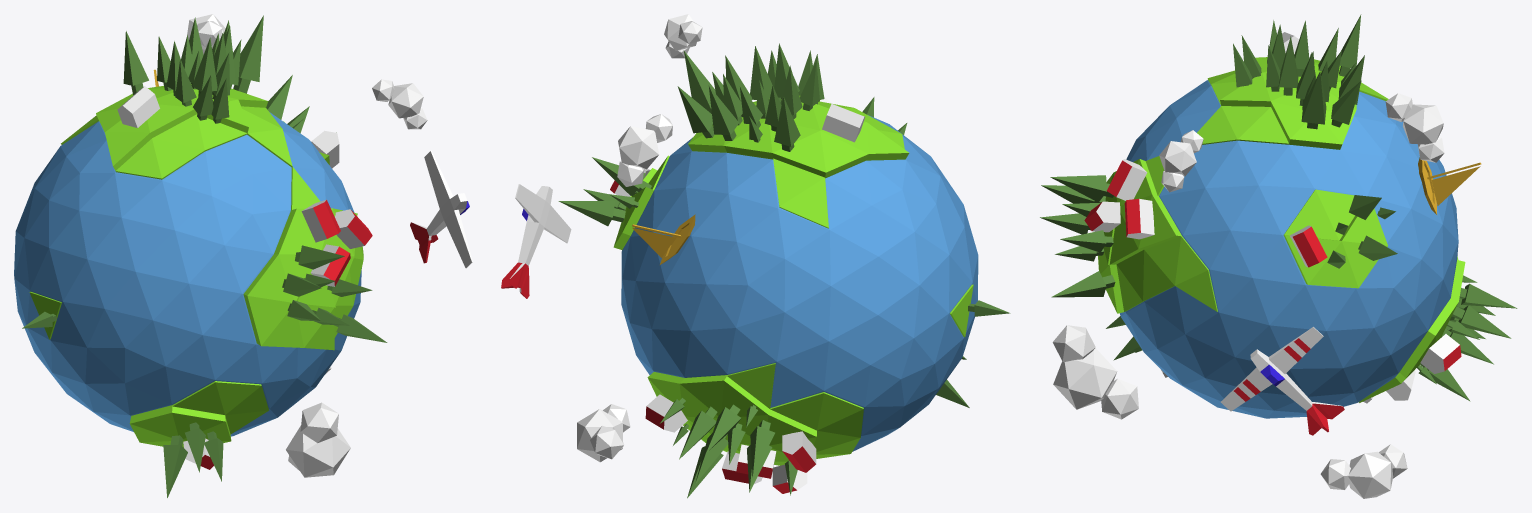
Rendered from earth_low_poly.gltf.
3 views of the same model, side by side, from view 1: azimuth 30°, elevation 25°; view 2: azimuth 150°, elevation 25°; view 3: azimuth 270°, elevation 25° (orthographic). The views are drawn at different scales.
Visible parts, largest first — view 1: Icosphere.001, Icosphere, Three, Icosphere.008, Plane, Icosphere.020, house, house.009, house.010, Icosphere.002, house.001, house.008; view 2: Icosphere.001, Icosphere, Three, Plane, Icosphere.002, Icosphere.014, boat, Icosphere.020, house.004, house, house.007, house.006 (+1 smaller); view 3: Icosphere.001, Icosphere, Three, Icosphere.008, Plane, Icosphere.014, Icosphere.002, Icosphere.020, boat, house.010, house.009, house.007 (+2 smaller).
Boxes of the visible parts, x1,y1,x2,y2 form: Icosphere.001: [14, 112, 361, 436]; Icosphere: [29, 84, 363, 447]; Three: [22, 15, 387, 497]; Icosphere.008: [286, 402, 350, 477]; Plane: [410, 150, 472, 268]; Icosphere.020: [372, 79, 427, 129]; house: [117, 86, 159, 127]; house.009: [301, 199, 340, 242]; house.010: [335, 209, 372, 248]; Icosphere.002: [187, 14, 225, 54]; house.001: [311, 244, 350, 286]; house.008: [311, 130, 339, 168]; Icosphere.001: [621, 115, 978, 451]; Icosphere: [613, 95, 973, 465]; Three: [558, 43, 1010, 498]; Plane: [501, 184, 571, 298]; Icosphere.002: [617, 114, 672, 186]; Icosphere.014: [577, 404, 630, 462]; boat: [632, 214, 695, 264]; Icosphere.020: [664, 14, 702, 58]; house.004: [782, 431, 816, 472]; house: [822, 104, 864, 142]; house.007: [645, 394, 687, 432]; house.006: [772, 464, 807, 493]; Icosphere.001: [1120, 80, 1458, 418]; Icosphere: [1098, 57, 1465, 402]; Three: [1040, 14, 1517, 401]; Icosphere.008: [1052, 325, 1138, 419]; Plane: [1220, 327, 1344, 435]; Icosphere.014: [1320, 444, 1407, 498]; Icosphere.002: [1385, 93, 1444, 162]; Icosphere.020: [1159, 130, 1203, 192]; boat: [1418, 157, 1481, 214]; house.010: [1124, 198, 1154, 239]; house.009: [1106, 159, 1147, 200]; house.007: [1420, 334, 1461, 373].
Size of the model in its own units: 3.19 by 2.69 by 2.84.
